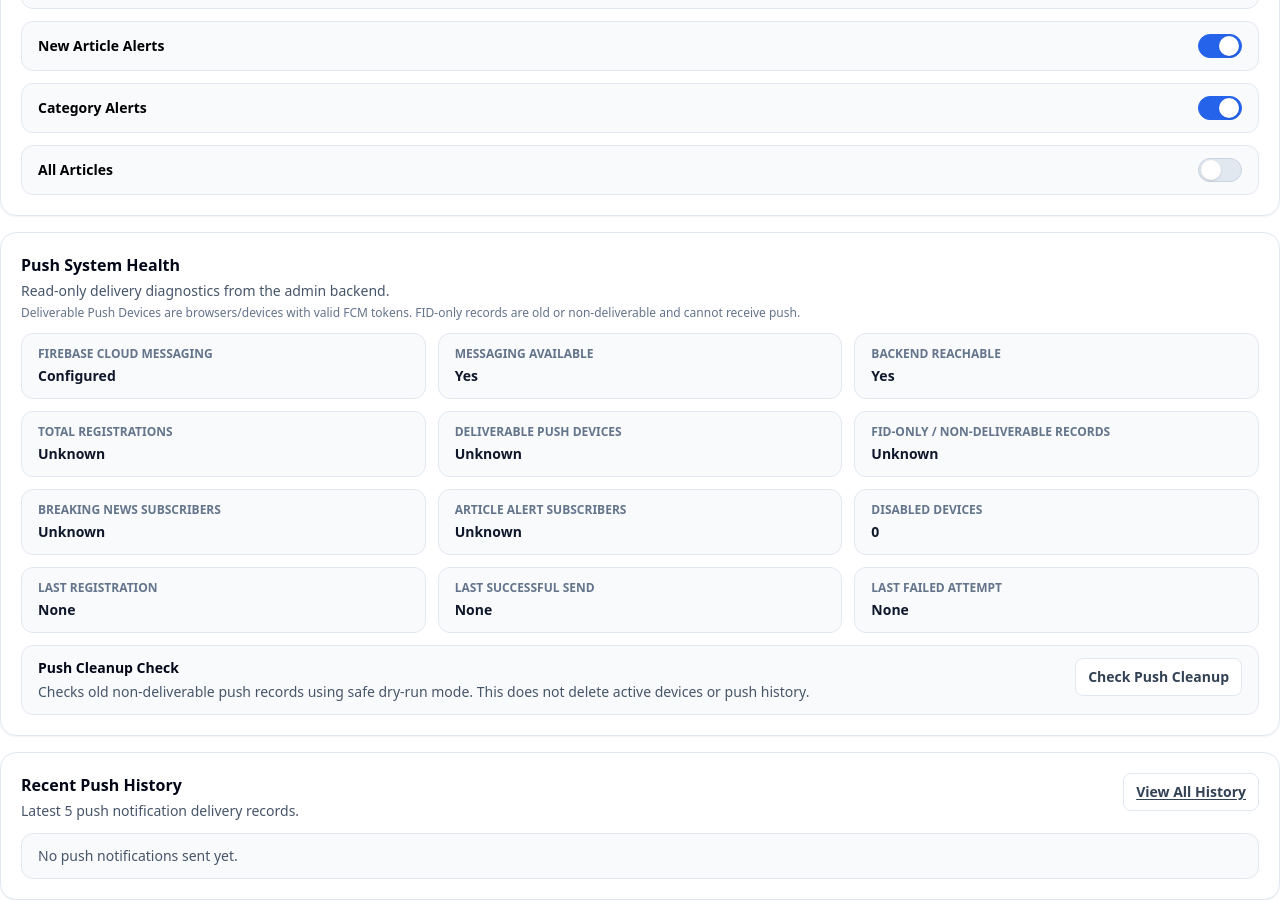
Test: PushNotificationsSettings › shows review-needed dry-run results without rendering destructive cleanup controls
(page scrolled)
expect the text "Configured" is shown: met, box [38,366,116,385]
What coordinates should you click on to do the following:
click the button "Check Push Cleanup"
I would click on:
 (1159, 677)
Its box is [1075,658,1242,696].
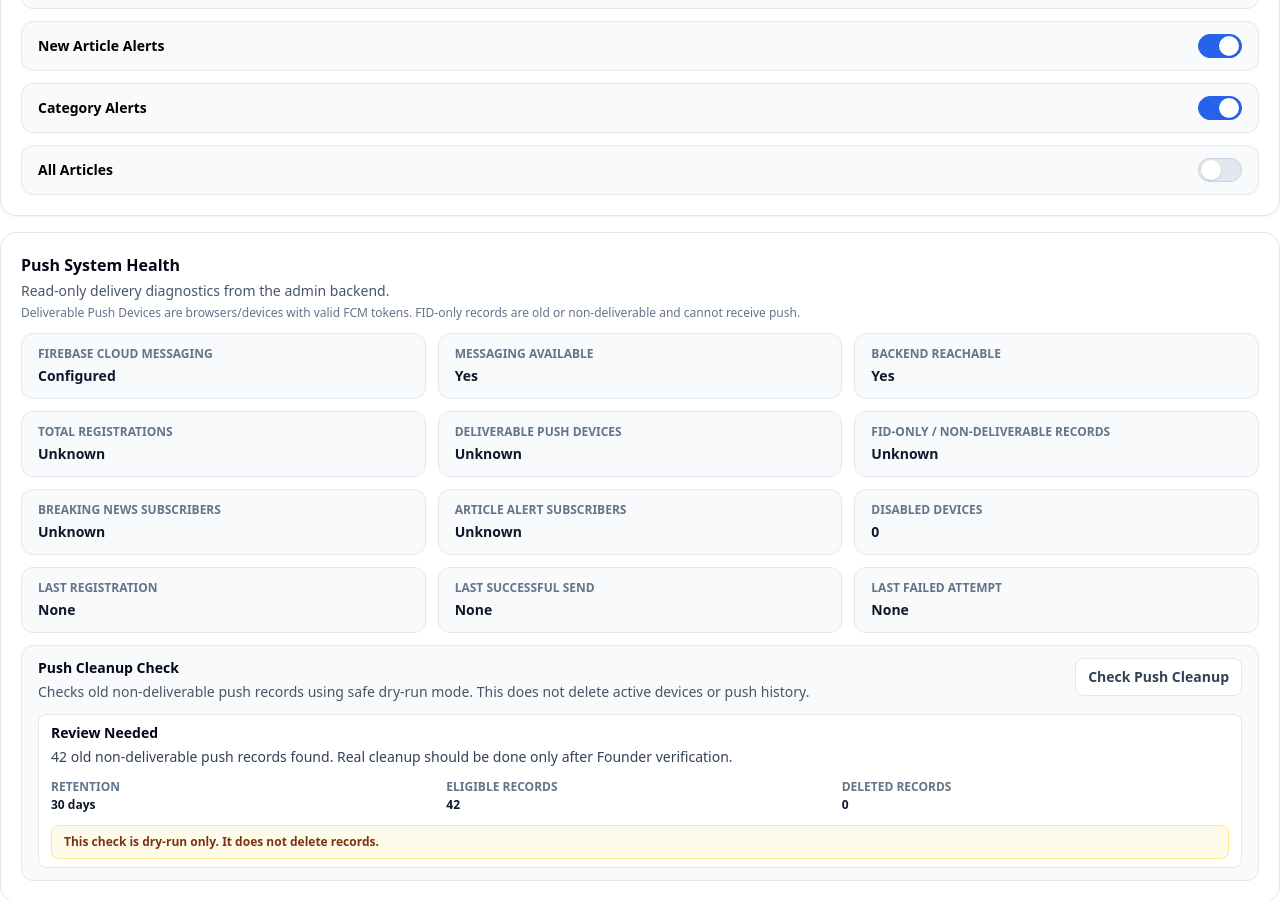
expect the text "Review Needed" is shown: met, box [51,723,158,742]
expect the text "42 old non-deliverable push records found. Real cleanup should be done only after Founder verification." is shown: met, box [51,747,733,766]
expect the text "30 days" is shown: met, box [51,796,96,813]
